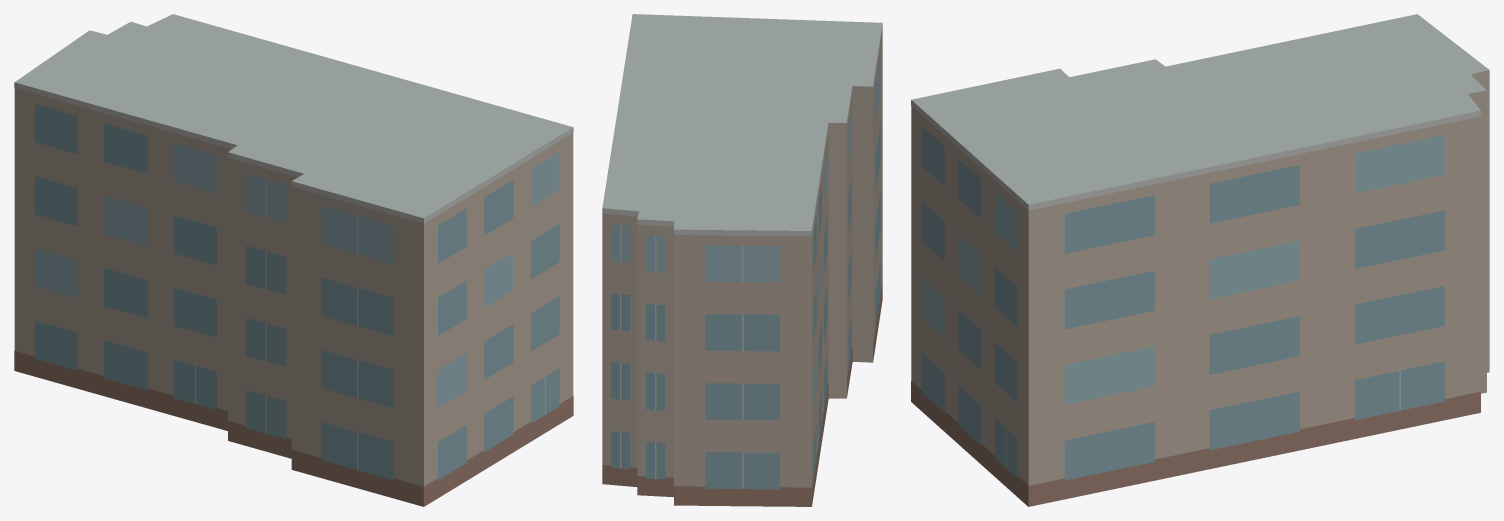
File: survey-upis-32705125.glb
3 renders of one model, left to right at view 1: azimuth 30°, elevation 25°; view 2: azimuth 150°, elevation 25°; view 3: azimuth 270°, elevation 25°, orthographic. The views are drawn at different scales.
Parts seen in each view (by area): view 1: survey-upis-32705125.tmp; view 2: survey-upis-32705125.tmp; view 3: survey-upis-32705125.tmp.
Part boxes in pixels (box(x1,y1,x2,y2)): survey-upis-32705125.tmp: box(14, 14, 573, 506); survey-upis-32705125.tmp: box(602, 14, 882, 506); survey-upis-32705125.tmp: box(911, 14, 1489, 506).
Size of the model in its own units: 17.06 by 12.6 by 21.87.
